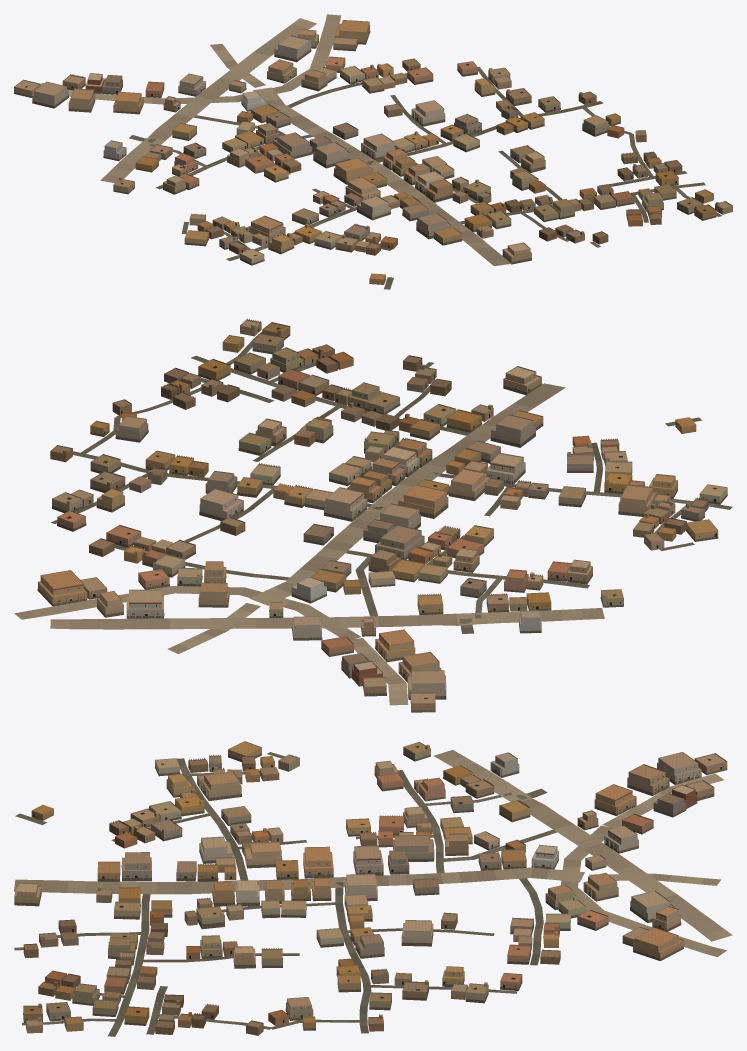
The model's file is uruk_quarter_10.glb.
3 views of the same model, one above another, from view 1: azimuth 30°, elevation 25°; view 2: azimuth 150°, elevation 25°; view 3: azimuth 270°, elevation 25° (orthographic). The views are drawn at different scales.
Parts seen in each view (by area): view 1: uruk_quarter_10; view 2: uruk_quarter_10; view 3: uruk_quarter_10.
Part boxes in pixels (x1=…): uruk_quarter_10: x1=14, y1=14, x2=732, y2=289; uruk_quarter_10: x1=14, y1=318, x2=732, y2=712; uruk_quarter_10: x1=14, y1=741, x2=732, y2=1036.
Size of the model in its own units: 374 by 19.59 by 413.
Materials: 7 (5 with a texture image).
